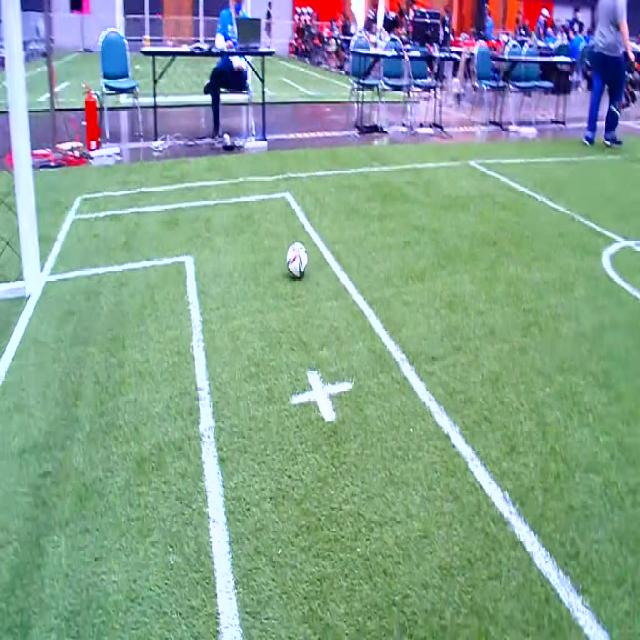ball: (286, 242, 309, 275)
